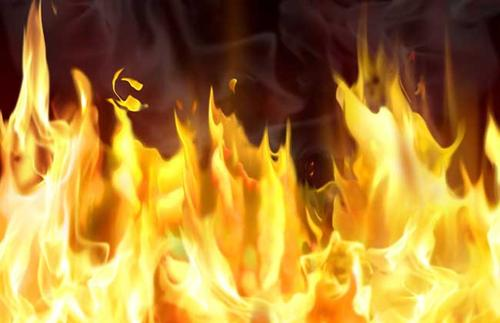fire: (1, 46, 500, 323)
